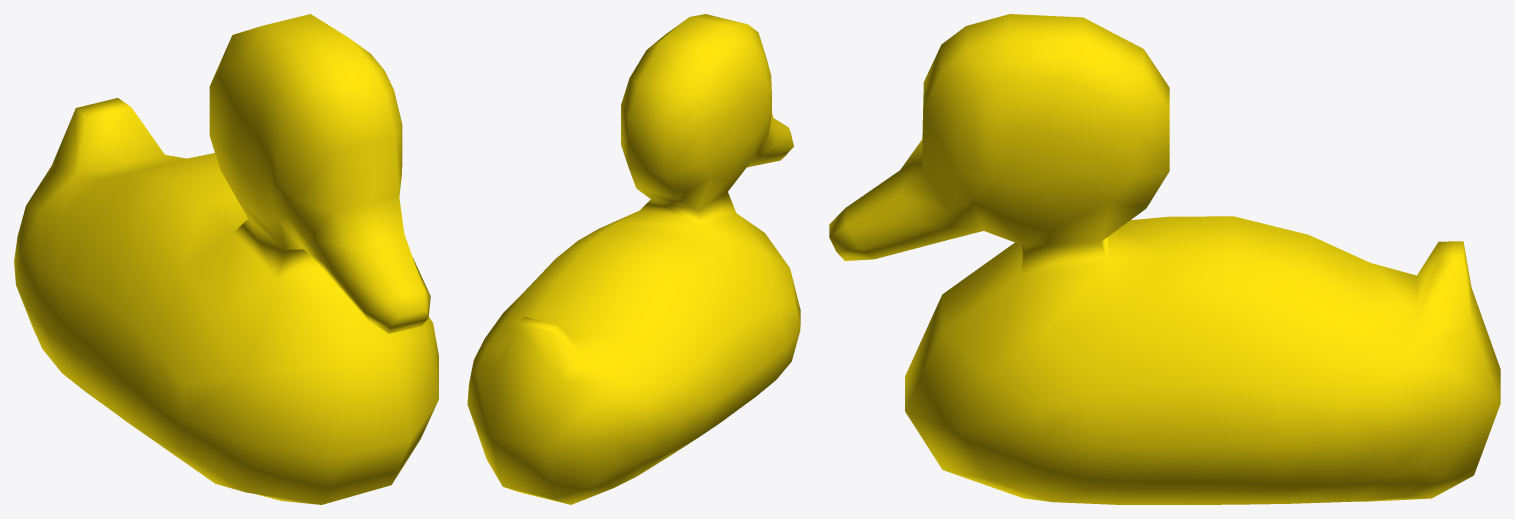
File: AnkkaTemp.fbx
3 views of the same model, side by side, from view 1: azimuth 30°, elevation 25°; view 2: azimuth 150°, elevation 25°; view 3: azimuth 270°, elevation 25° (orthographic). The views are drawn at different scales.
Parts seen in each view (by area): view 1: Ankka; view 2: Ankka; view 3: Ankka.
Boxes of the visible parts, x1,y1,x2,y2 form: Ankka: (14, 14, 438, 504); Ankka: (467, 14, 800, 504); Ankka: (829, 14, 1500, 504).
Size of the model in its own units: 0.4982 by 0.7534 by 1.
